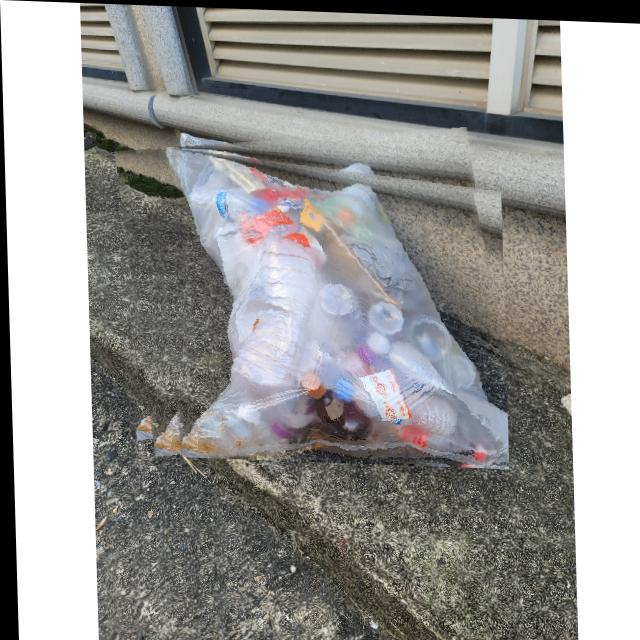other_trashbag: (166, 147, 506, 456)
